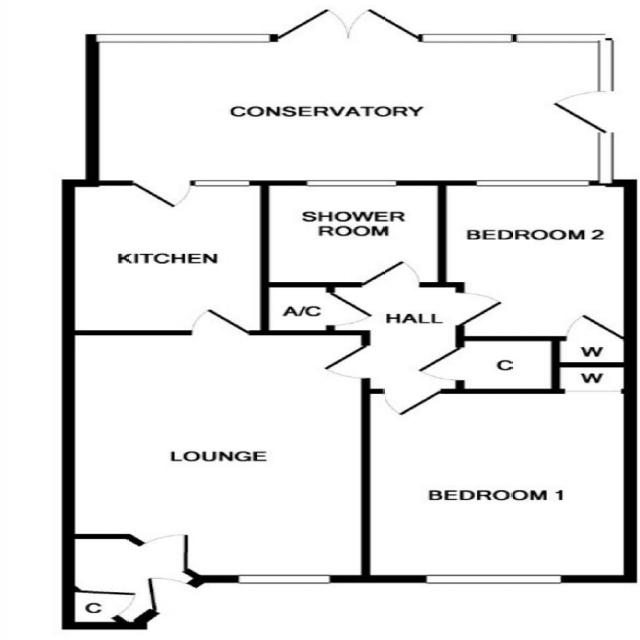DOOR: (373, 387, 457, 422), (312, 339, 374, 386), (137, 532, 195, 575), (456, 287, 508, 331), (143, 575, 200, 614), (186, 305, 254, 336), (125, 180, 192, 210), (360, 259, 427, 288)
ROOM: (62, 302, 373, 583), (361, 361, 639, 584), (437, 179, 638, 367), (61, 179, 270, 336)
WINDOW: (420, 572, 565, 587), (472, 178, 594, 190), (235, 572, 333, 585), (304, 178, 401, 188), (194, 179, 253, 187)
